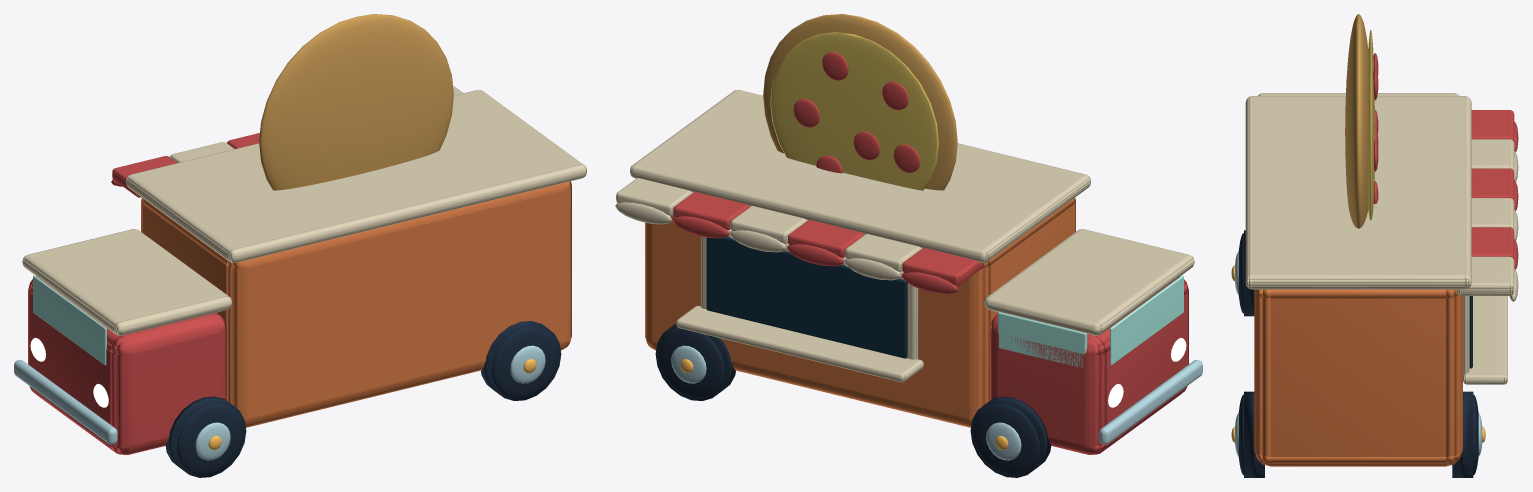
File: pizza.glb
The picture shows the model from 3 angles, left to right: view 1: azimuth 30°, elevation 25°; view 2: azimuth 150°, elevation 25°; view 3: azimuth 270°, elevation 25°; orthographic projection. The views are drawn at different scales.
Parts seen in each view (by area): view 1: pizza.Static.vinyl, pizza.Static.metal, pizza.Static.ceramic; view 2: pizza.Static.vinyl, pizza.Static.ceramic, pizza.Static.metal; view 3: pizza.Static.vinyl, pizza.Static.metal.
Part boxes in pixels (x1,y1,x2,y2): pizza.Static.vinyl: (22,14,586,477); pizza.Static.metal: (14,345,545,460); pizza.Static.ceramic: (33,275,106,365); pizza.Static.vinyl: (615,14,1194,477); pizza.Static.ceramic: (998,275,1183,368); pizza.Static.metal: (671,345,1202,460); pizza.Static.vinyl: (1238,14,1518,477); pizza.Static.metal: (1231,252,1485,455).
Bounding box in the file's own units: 16.57 × 12.4 × 8.26.
